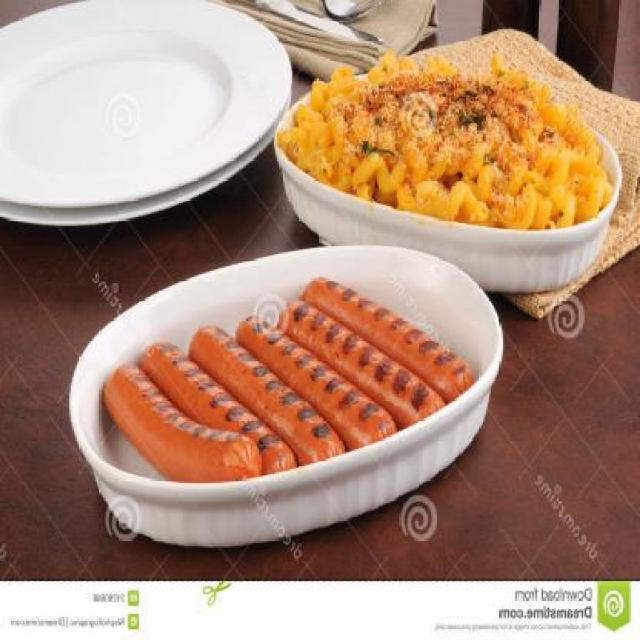hot dog: (98, 275, 484, 496)
macaroni and cheese: (277, 49, 618, 234)
